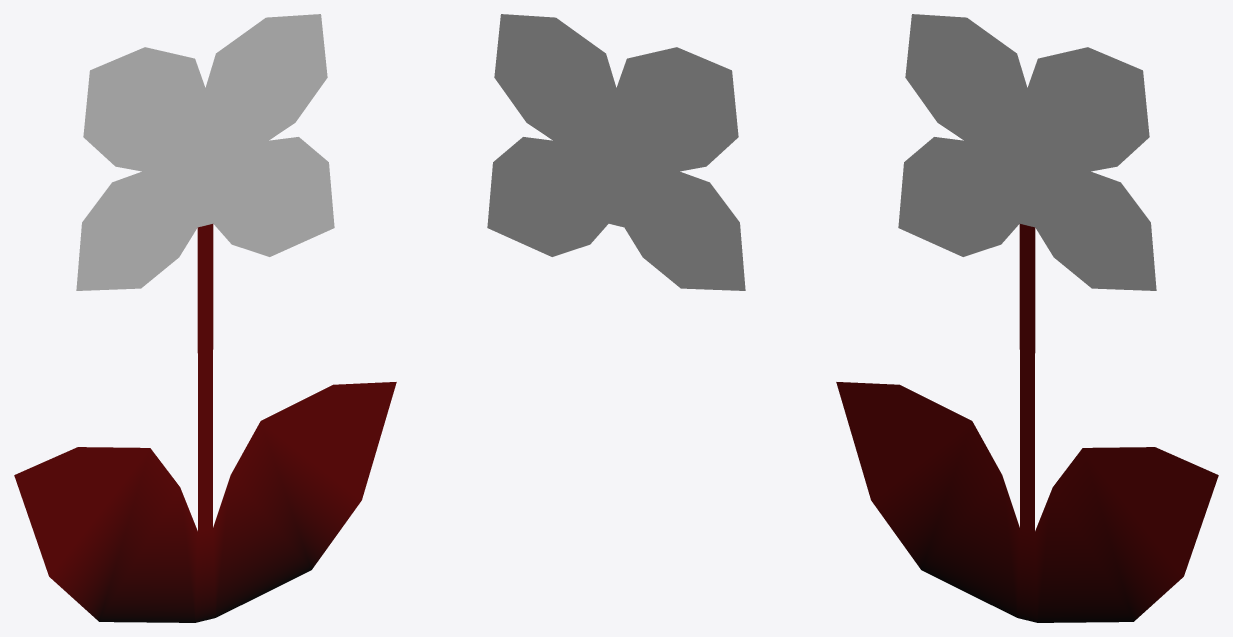
Rendered from Flower01.fbx.
3 renders of one model, left to right at view 1: azimuth 30°, elevation 25°; view 2: azimuth 150°, elevation 25°; view 3: azimuth 330°, elevation 25°, orthographic.
Parts seen in each view (by area): view 1: Flower01_Leaf, Flower01_Pebble; view 2: Flower01_Pebble; view 3: Flower01_Leaf, Flower01_Pebble.
Part boxes in pixels (x1,y1,x2,y2): Flower01_Leaf: (14,224,396,622); Flower01_Pebble: (76,14,334,290); Flower01_Pebble: (487,14,745,290); Flower01_Leaf: (836,224,1218,622); Flower01_Pebble: (898,14,1156,290).
Bounding box in the file's own units: 0.2792 × 0.4101 × 5.86e-08.
